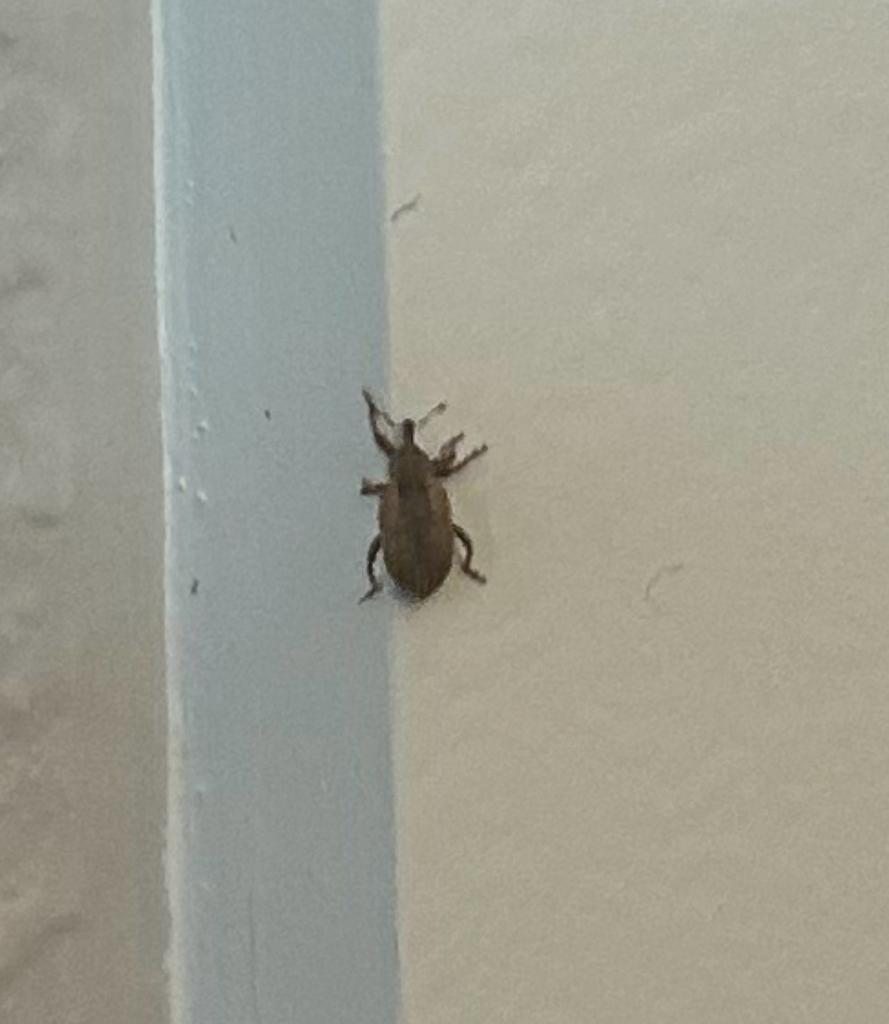weevils: (297, 366, 550, 663)
